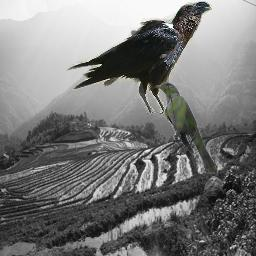Crow: (66, 1, 212, 115)
Cuckoo: (155, 82, 220, 174)
